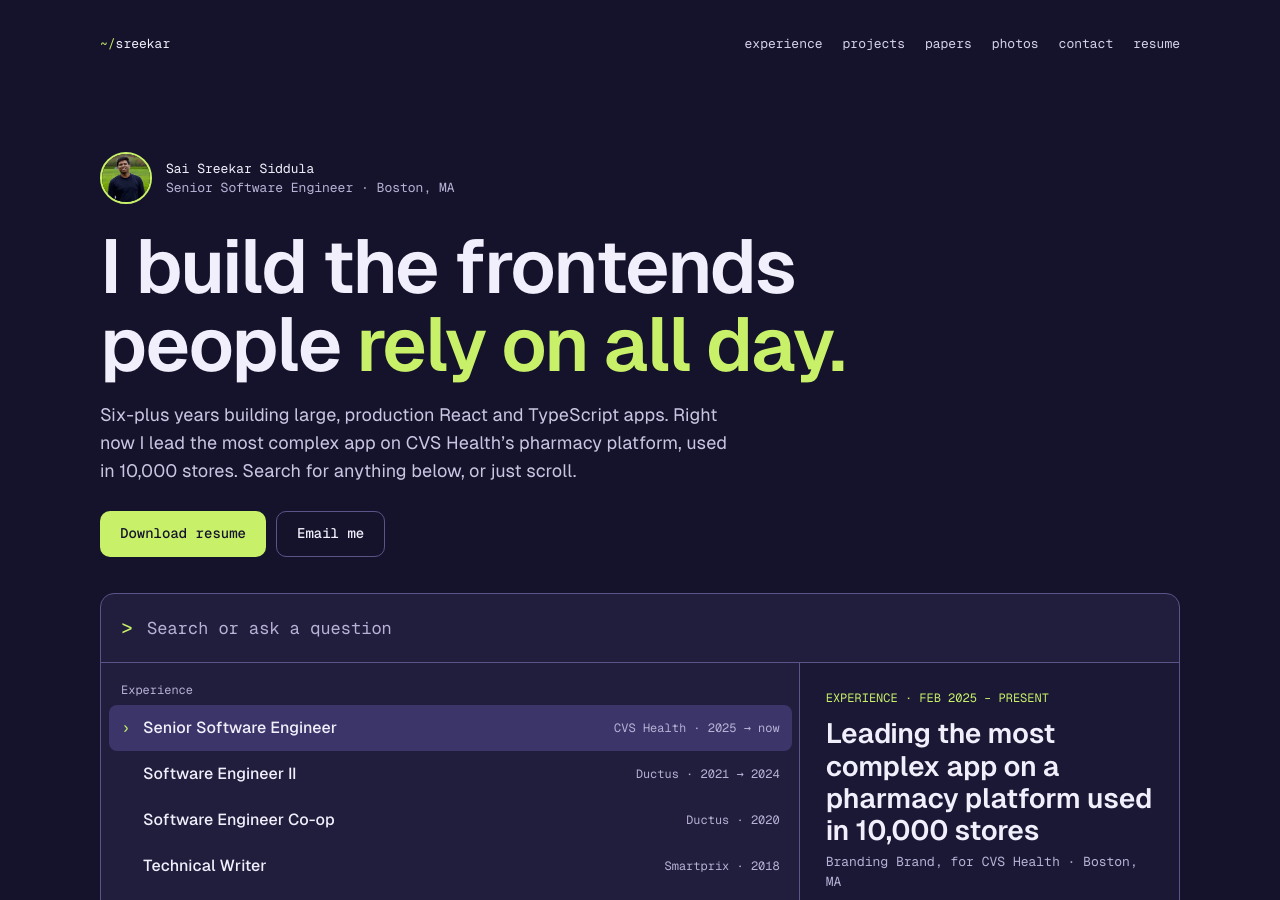
search filters results and offers to email a question
This screenshot has width=1280, height=900.
Type "sushi" into the dropdown labelled "Search or ask a question" at (646, 628), box [145,594,1147,662]
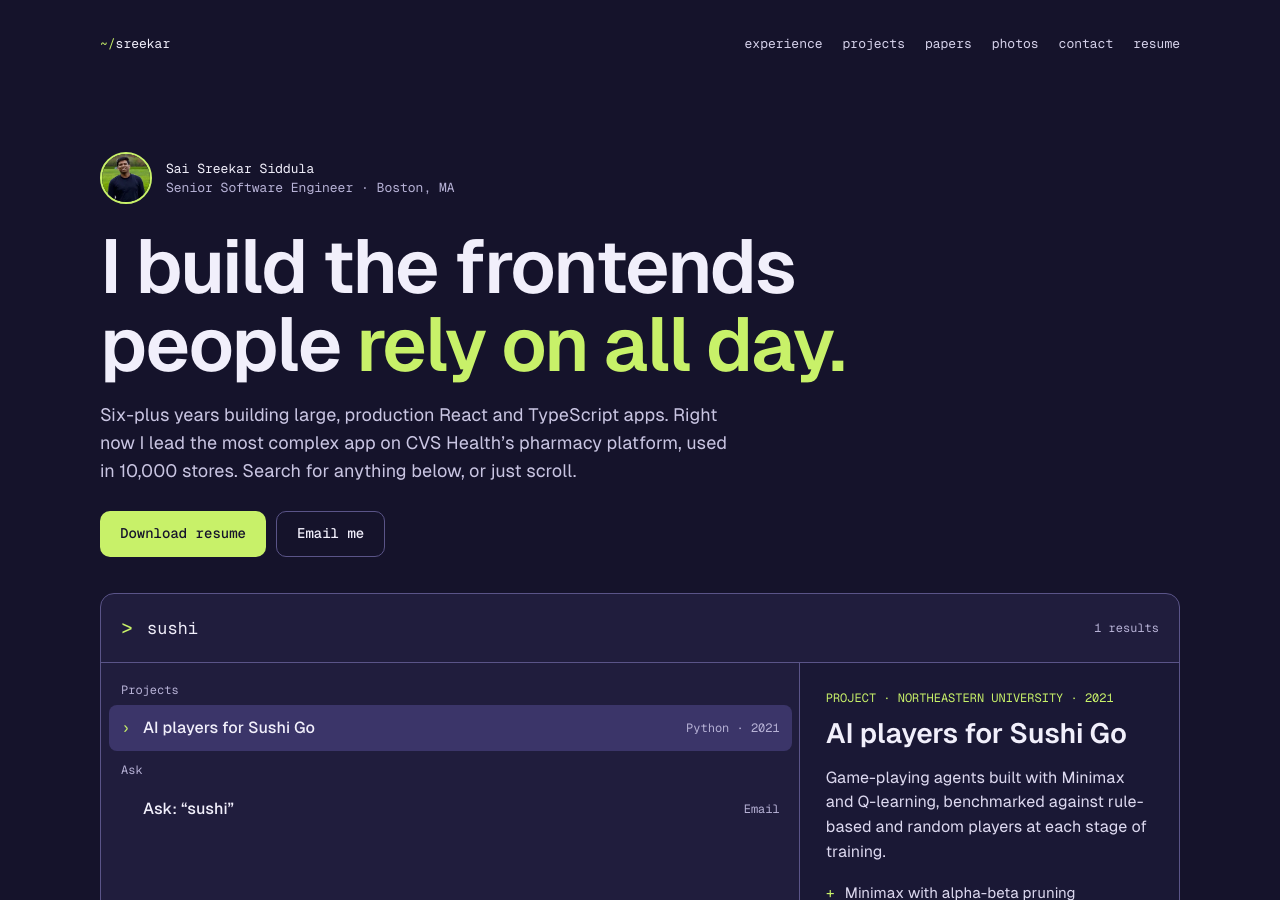
Expected: the option "› AI players for Sushi Go Python · 2021" is shown, [109,705,792,751]
Now the option "Ask: “sushi” Email" is shown, box [143,799,780,818]
